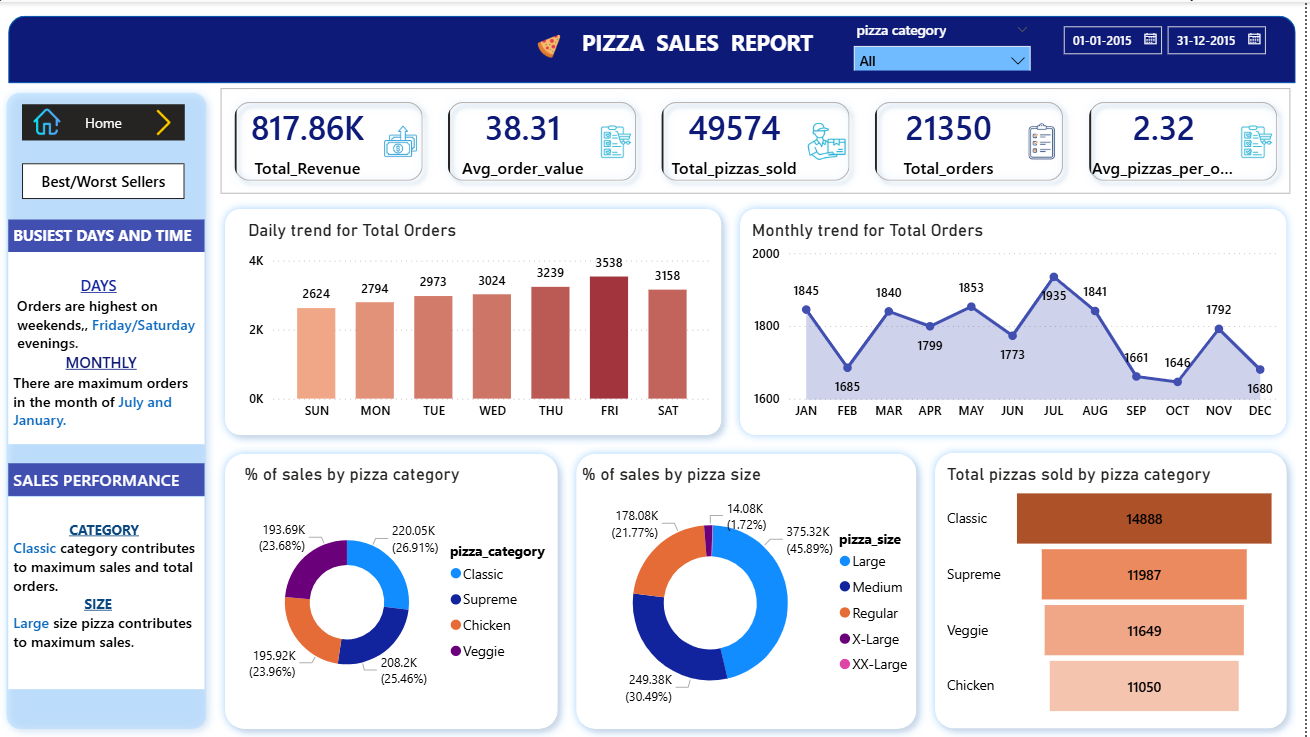

This screenshot's page, from the dashboard's own definition file:
{"tool":"powerbi","page":{"name":"Home","canvas":[1280,720],"ordinal":0},"visuals":[{"type":"cardVisual","fields":{"Data":["pizza_sales.Total_Revenue","pizza_sales.Avg_order_value","pizza_sales.Total_pizzas_sold","pizza_sales.Total_orders","pizza_sales.Avg_pizzas_per_orders"]},"box":[214,79.5,1056.5,113.7],"z":0},{"type":"shape","box":[11,13.5,1259.5,66],"z":1000},{"type":"textbox","box":[567.4,19.6,284.9,40.4],"z":2000},{"type":"image","box":[512.4,26.9,55,33],"z":3000},{"type":"shape","box":[214,193.2,503.8,239.7],"z":4000},{"type":"columnChart","title":"Daily trend for Total Orders","fields":{"Category":["pizza_sales.Order_day"],"Y":["pizza_sales.Total_orders"]},"box":[240.9,212.8,463.5,205.4],"z":5000},{"type":"shape","box":[717.8,193.2,552.7,239.7],"z":6000},{"type":"areaChart","title":"Monthly trend for Total Orders","fields":{"Y":["pizza_sales.Total_orders"],"Category":["pizza_sales.Order_month"]},"box":[733.7,212.8,523.4,205.4],"z":7000},{"type":"shape","box":[214,432.9,343.6,287.4],"z":8000},{"type":"shape","box":[557.6,432.9,351,287.4],"z":9000},{"type":"shape","box":[908.4,432.2,362.3,288.2],"z":10000},{"type":"donutChart","title":"% of sales by pizza category","fields":{"Y":["pizza_sales.Total_Revenue"],"Category":["pizza_sales.pizza_category"]},"box":[237.2,451.2,310.6,253.1],"z":11000},{"type":"donutChart","title":"% of sales by pizza size","fields":{"Y":["pizza_sales.Total_Revenue"],"Category":["pizza_sales.pizza_size"]},"box":[567.4,451.2,341.2,254.3],"z":12000},{"type":"funnel","title":"Total pizzas sold by pizza category","fields":{"Category":["pizza_sales.pizza_category"],"Y":["pizza_sales.Total_pizzas_sold"]},"box":[924.5,451.2,332.6,253.1],"z":13000},{"type":"shape","box":[0,79.5,214,640.8],"z":14000},{"type":"textbox","box":[11,212.8,192,31.8],"z":15000},{"type":"textbox","box":[11,244.6,192,188.3],"z":16000},{"type":"textbox","box":[11,451.2,192,31.8],"z":17000},{"type":"textbox","box":[11,484.2,192,188.3],"z":18000},{"type":"slicer","fields":{"Values":["pizza_sales.pizza_category"]},"box":[827.9,13.5,193.2,53.8],"z":19000},{"type":"slicer","fields":{"Values":["pizza_sales.order_date"]},"box":[1030.8,13.5,226.2,66],"z":20000},{"type":"pageNavigator","box":[24.7,100.2,159.2,35.7],"z":21000},{"type":"pageNavigator","box":[24.7,157.8,159.2,35.7],"z":22000},{"type":"image","box":[122.1,100.2,81,35.7],"z":23000},{"type":"image","box":[24.7,99,48,36],"z":24000}]}

Visuals, with their boxes in screenshot pixels (x1, y1, x2, y2), scaled from the page's 1280x720 canvas onto the 1310x737 screenshot:
cardVisual - pizza_sales.Total_Revenue x pizza_sales.Avg_order_value: box=[219, 81, 1300, 198]
shape: box=[11, 14, 1300, 81]
textbox: box=[581, 20, 872, 61]
image: box=[524, 28, 581, 61]
shape: box=[219, 198, 735, 443]
"Daily trend for Total Orders" columnChart: box=[247, 218, 721, 428]
shape: box=[735, 198, 1300, 443]
"Monthly trend for Total Orders" areaChart: box=[751, 218, 1287, 428]
shape: box=[219, 443, 571, 736]
shape: box=[571, 443, 930, 736]
shape: box=[930, 442, 1300, 736]
"% of sales by pizza category" donutChart: box=[243, 462, 561, 721]
"% of sales by pizza size" donutChart: box=[581, 462, 930, 722]
"Total pizzas sold by pizza category" funnel: box=[946, 462, 1287, 721]
shape: box=[0, 81, 219, 736]
textbox: box=[11, 218, 208, 250]
textbox: box=[11, 250, 208, 443]
textbox: box=[11, 462, 208, 494]
textbox: box=[11, 496, 208, 688]
slicer - pizza_sales.pizza_category: box=[847, 14, 1045, 69]
slicer - pizza_sales.order_date: box=[1055, 14, 1286, 81]
pageNavigator: box=[25, 103, 188, 139]
pageNavigator: box=[25, 162, 188, 198]
image: box=[125, 103, 208, 139]
image: box=[25, 101, 74, 138]
